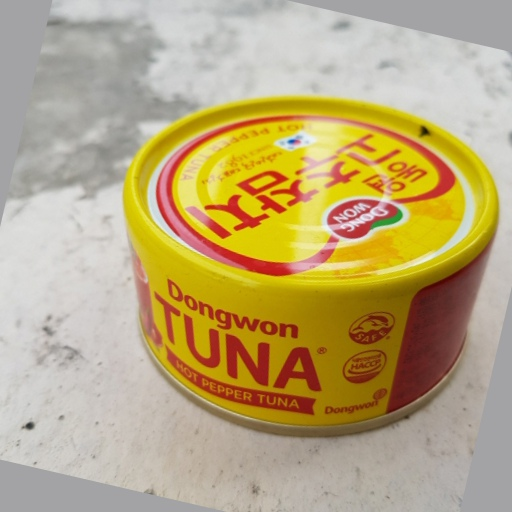Metal_1: (125, 93, 503, 439)
